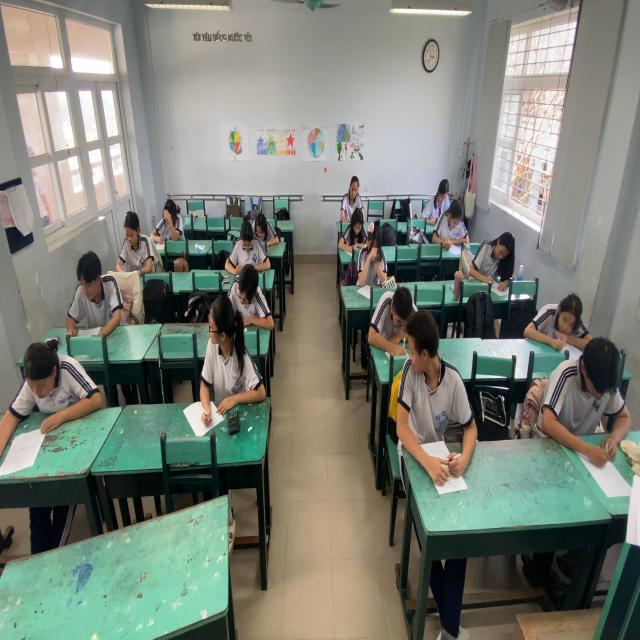cheating: (395, 305, 462, 481), (197, 295, 262, 410)
not_cheating: (554, 333, 623, 455), (12, 338, 97, 434), (66, 249, 122, 337), (533, 286, 593, 352), (368, 272, 410, 356), (466, 220, 516, 290), (108, 208, 152, 286), (229, 259, 270, 330), (225, 215, 272, 275), (429, 192, 470, 249), (160, 192, 193, 252), (356, 225, 392, 280), (423, 161, 454, 219), (334, 174, 370, 215), (342, 198, 366, 255), (254, 209, 283, 252)
